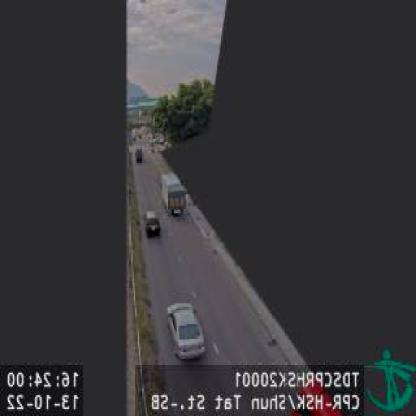Car: (166, 300, 206, 360), (142, 210, 160, 237)
Truck: (158, 172, 186, 216)
